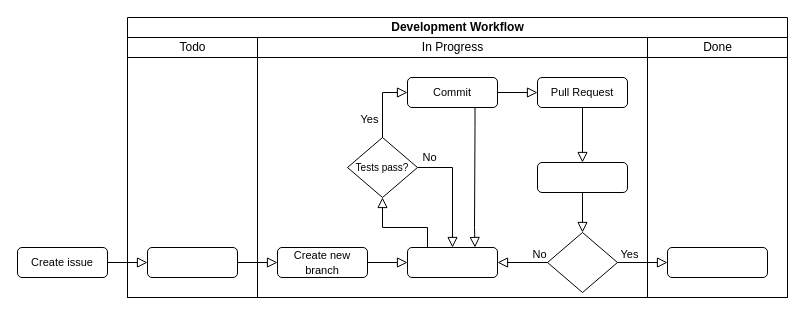
Image size: 805x315. Some labels were removed from this diagram. Here are the shapes that lost their labels. From the top down, the centre of each, then its label:
At point (582, 177): "Peer Review".
At point (192, 262): "Assignation".
At point (452, 262): "Development".
At point (582, 262): "Approved?".
At point (717, 262): "Merge into main".
